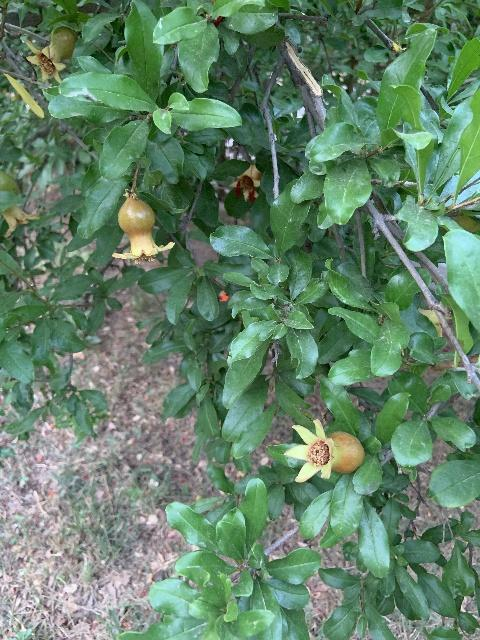early-fruit: (285, 417, 363, 483), (113, 196, 174, 266), (231, 163, 263, 202)
mid-growth: (23, 26, 78, 83), (0, 173, 39, 237)
